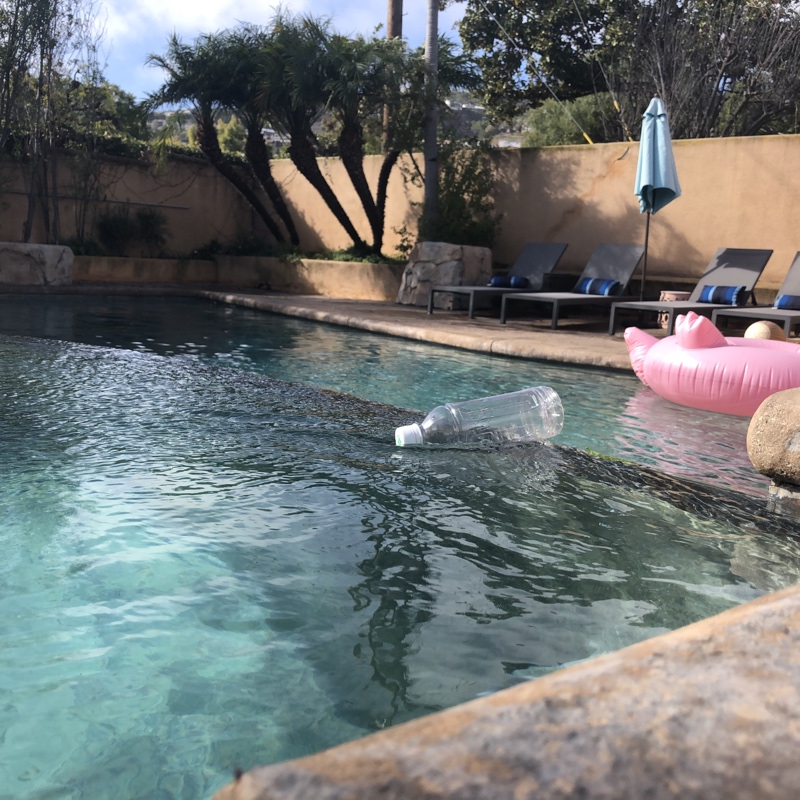Plastic Bottle: (389, 381, 567, 454)
